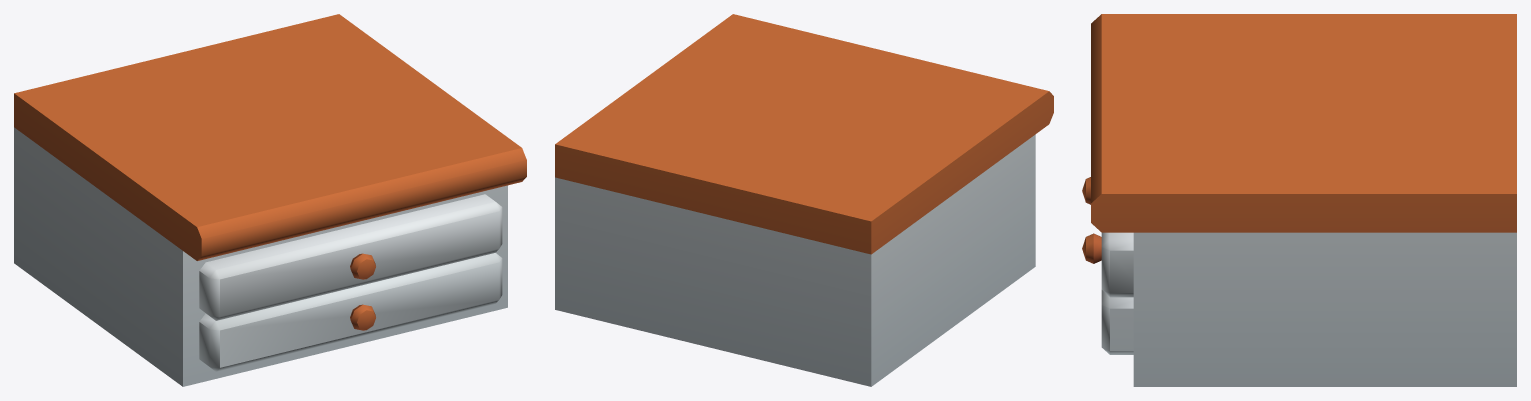
The model's file is kk_counter.glb.
3 renders of one model, left to right at view 1: azimuth 30°, elevation 25°; view 2: azimuth 150°, elevation 25°; view 3: azimuth 270°, elevation 25°, orthographic. The views are drawn at different scales.
Visible parts, largest first — view 1: kitchencounter_straight_A; view 2: kitchencounter_straight_A; view 3: kitchencounter_straight_A.
Boxes of the visible parts, bbox=[...] form: kitchencounter_straight_A: bbox=[14, 14, 526, 386]; kitchencounter_straight_A: bbox=[555, 14, 1053, 386]; kitchencounter_straight_A: bbox=[1082, 14, 1516, 386].
Size of the model in its own units: 2 by 0.9999 by 2.04.
1 material, 1 textured.
